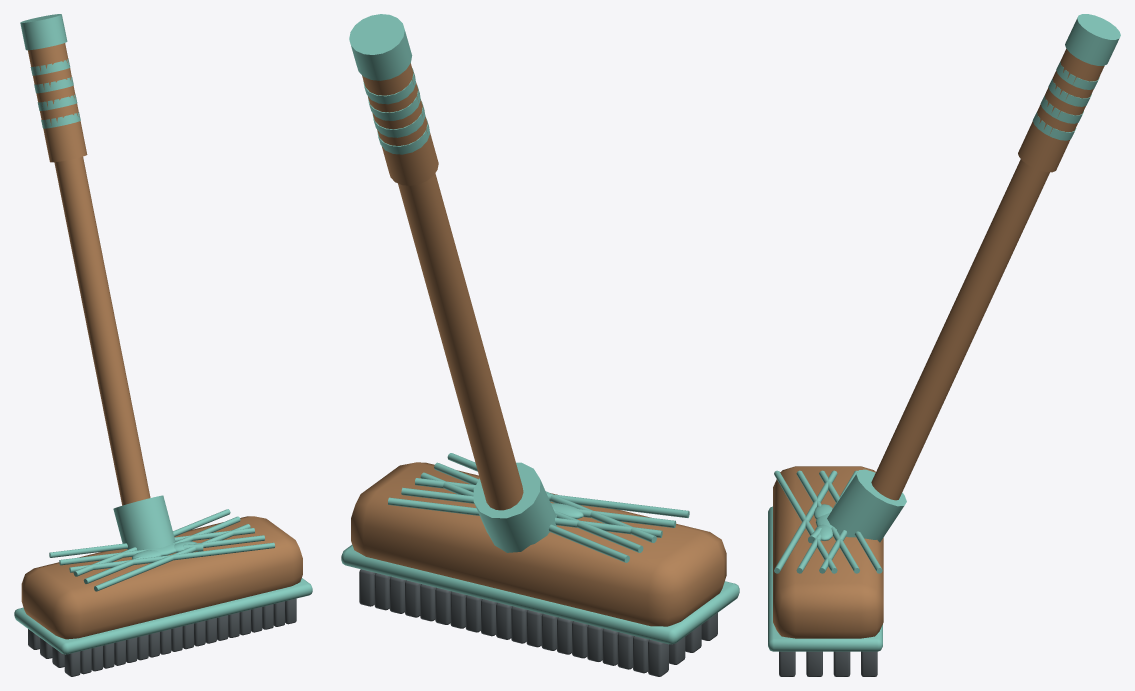
Rendered from tier_6_lattice_wood.glb.
The picture shows the model from 3 angles, left to right: view 1: azimuth 30°, elevation 25°; view 2: azimuth 150°, elevation 25°; view 3: azimuth 270°, elevation 25°; orthographic projection. The views are drawn at different scales.
Visible parts, largest first — view 1: BrushTier6_Lattice; view 2: BrushTier6_Lattice; view 3: BrushTier6_Lattice.
Boxes of the visible parts, box(x1,y1,x2,y2) form: BrushTier6_Lattice: box(14, 14, 312, 676); BrushTier6_Lattice: box(341, 14, 739, 676); BrushTier6_Lattice: box(768, 14, 1120, 676).
Size of the model in its own units: 0.79 by 1.61 by 0.8603.
